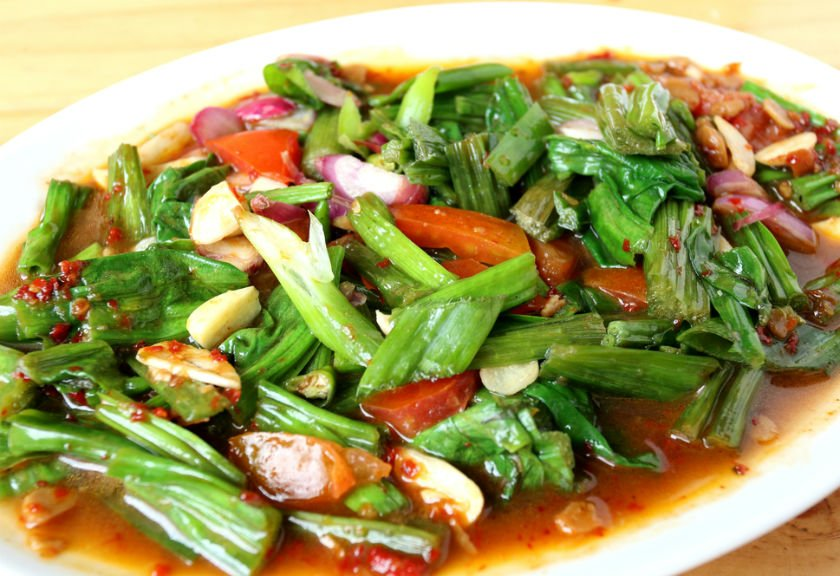buah_sayur_lainnya: (109, 113, 755, 483)
